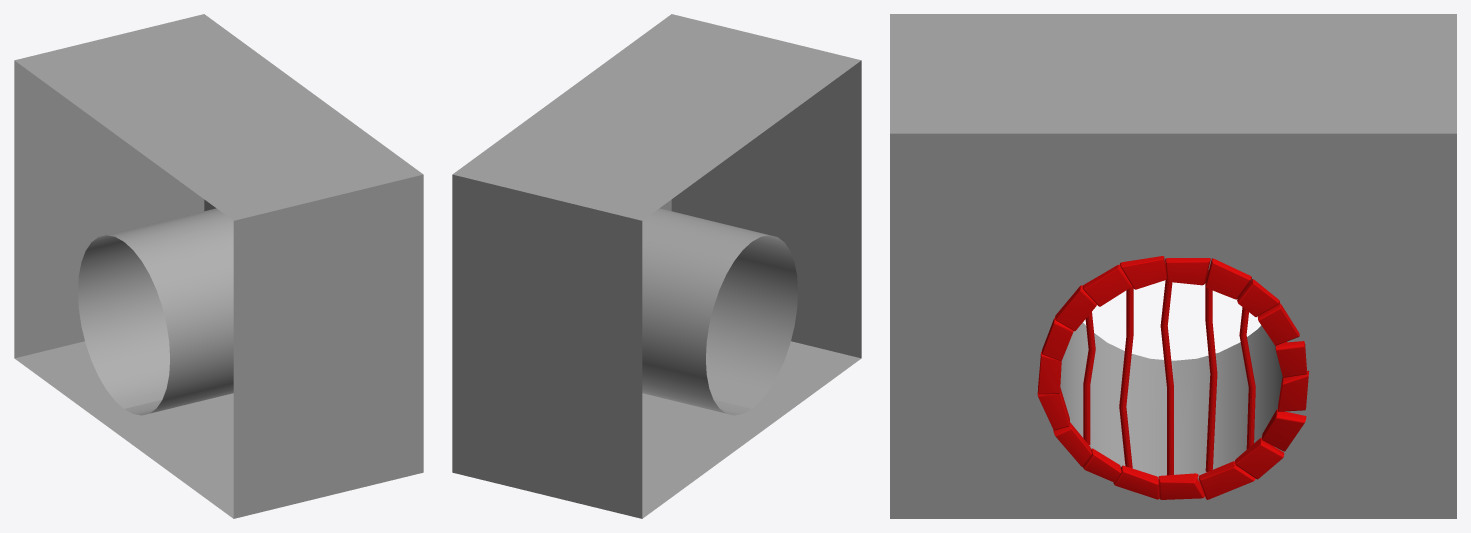
The model's file is SM_WallTunnel.fbx.
3 renders of one model, left to right at view 1: azimuth 30°, elevation 25°; view 2: azimuth 150°, elevation 25°; view 3: azimuth 270°, elevation 25°, orthographic. The views are drawn at different scales.
Visible parts, largest first — view 1: polySurface6185; view 2: polySurface6185; view 3: polySurface6185.
Part boxes in pixels (bbox=[...]): polySurface6185: bbox=[14, 14, 423, 518]; polySurface6185: bbox=[452, 14, 861, 518]; polySurface6185: bbox=[890, 14, 1456, 518].
Bounding box in the file's own units: 423 × 600 × 800.
